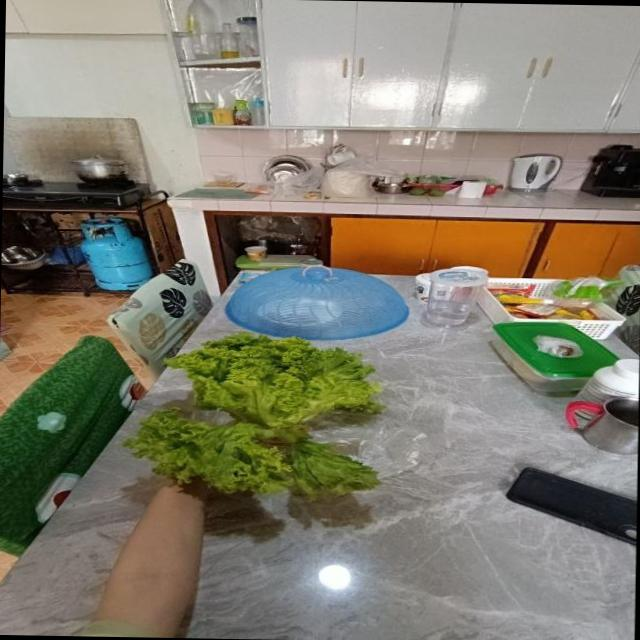Lettuce-Ready-to-Harvest: (127, 332, 381, 497)
